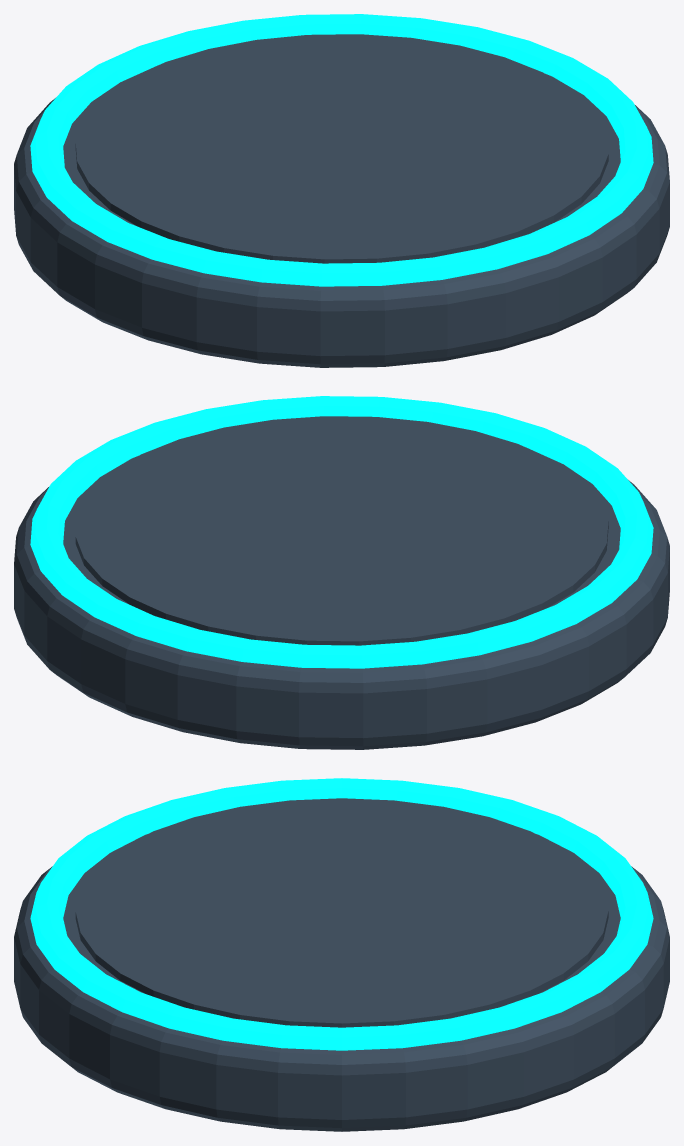
Rendered from SpatialActionPuck.glb.
3 views of the same model, one above another, from view 1: azimuth 30°, elevation 25°; view 2: azimuth 150°, elevation 25°; view 3: azimuth 270°, elevation 25° (orthographic).
Parts seen in each view (by area): view 1: Puck_Face, Puck_Base, Puck_Bezel_Glow; view 2: Puck_Face, Puck_Base, Puck_Bezel_Glow; view 3: Puck_Face, Puck_Base, Puck_Bezel_Glow.
Part boxes in pixels (<box>): Puck_Face: <box>75,34,608,263</box>; Puck_Base: <box>14,65,669,367</box>; Puck_Bezel_Glow: <box>30,14,653,286</box>; Puck_Face: <box>75,416,608,645</box>; Puck_Base: <box>14,447,669,749</box>; Puck_Bezel_Glow: <box>30,396,653,668</box>; Puck_Face: <box>75,798,608,1027</box>; Puck_Base: <box>14,834,669,1131</box>; Puck_Bezel_Glow: <box>30,778,653,1050</box>.
Size of the model in its own units: 0.16 by 0.026 by 0.16.
